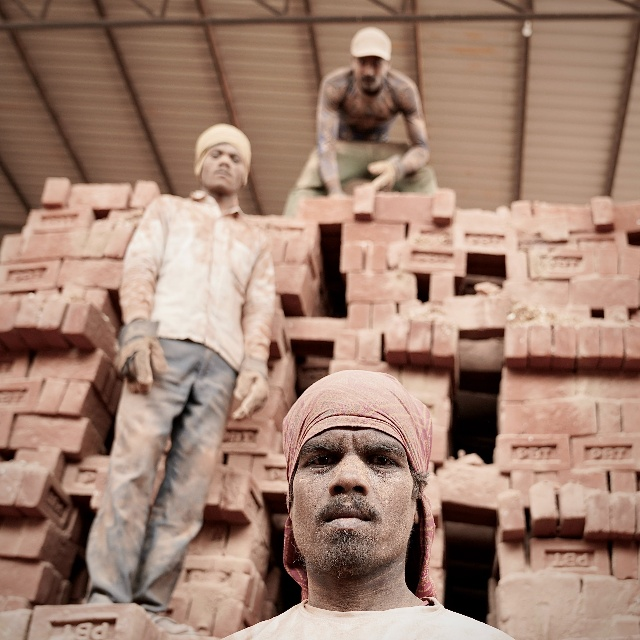Guantes: (113, 320, 168, 394), (231, 361, 269, 423), (366, 156, 401, 192)
